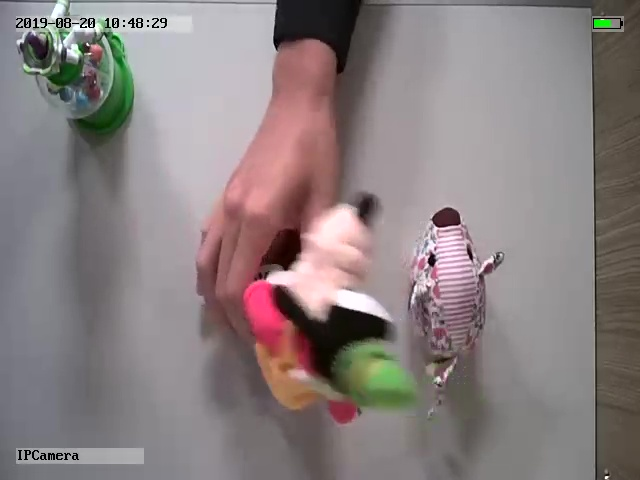buzz: (13, 2, 134, 130)
pig: (408, 206, 506, 421)
